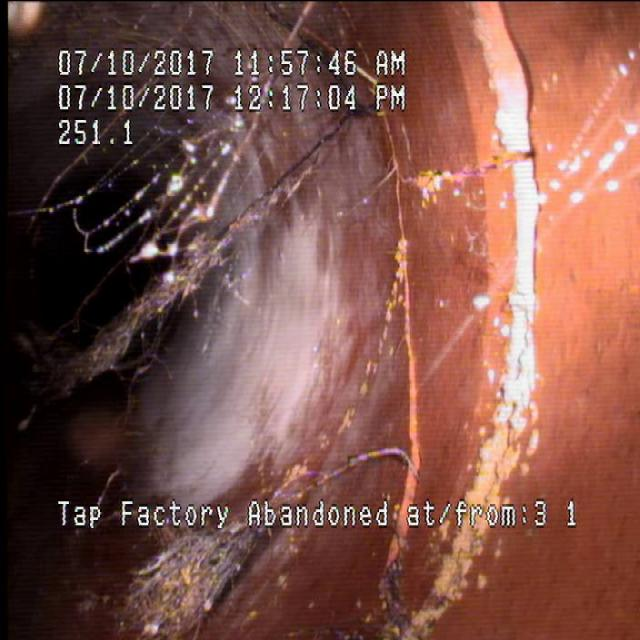Crack: (424, 110, 531, 206)
